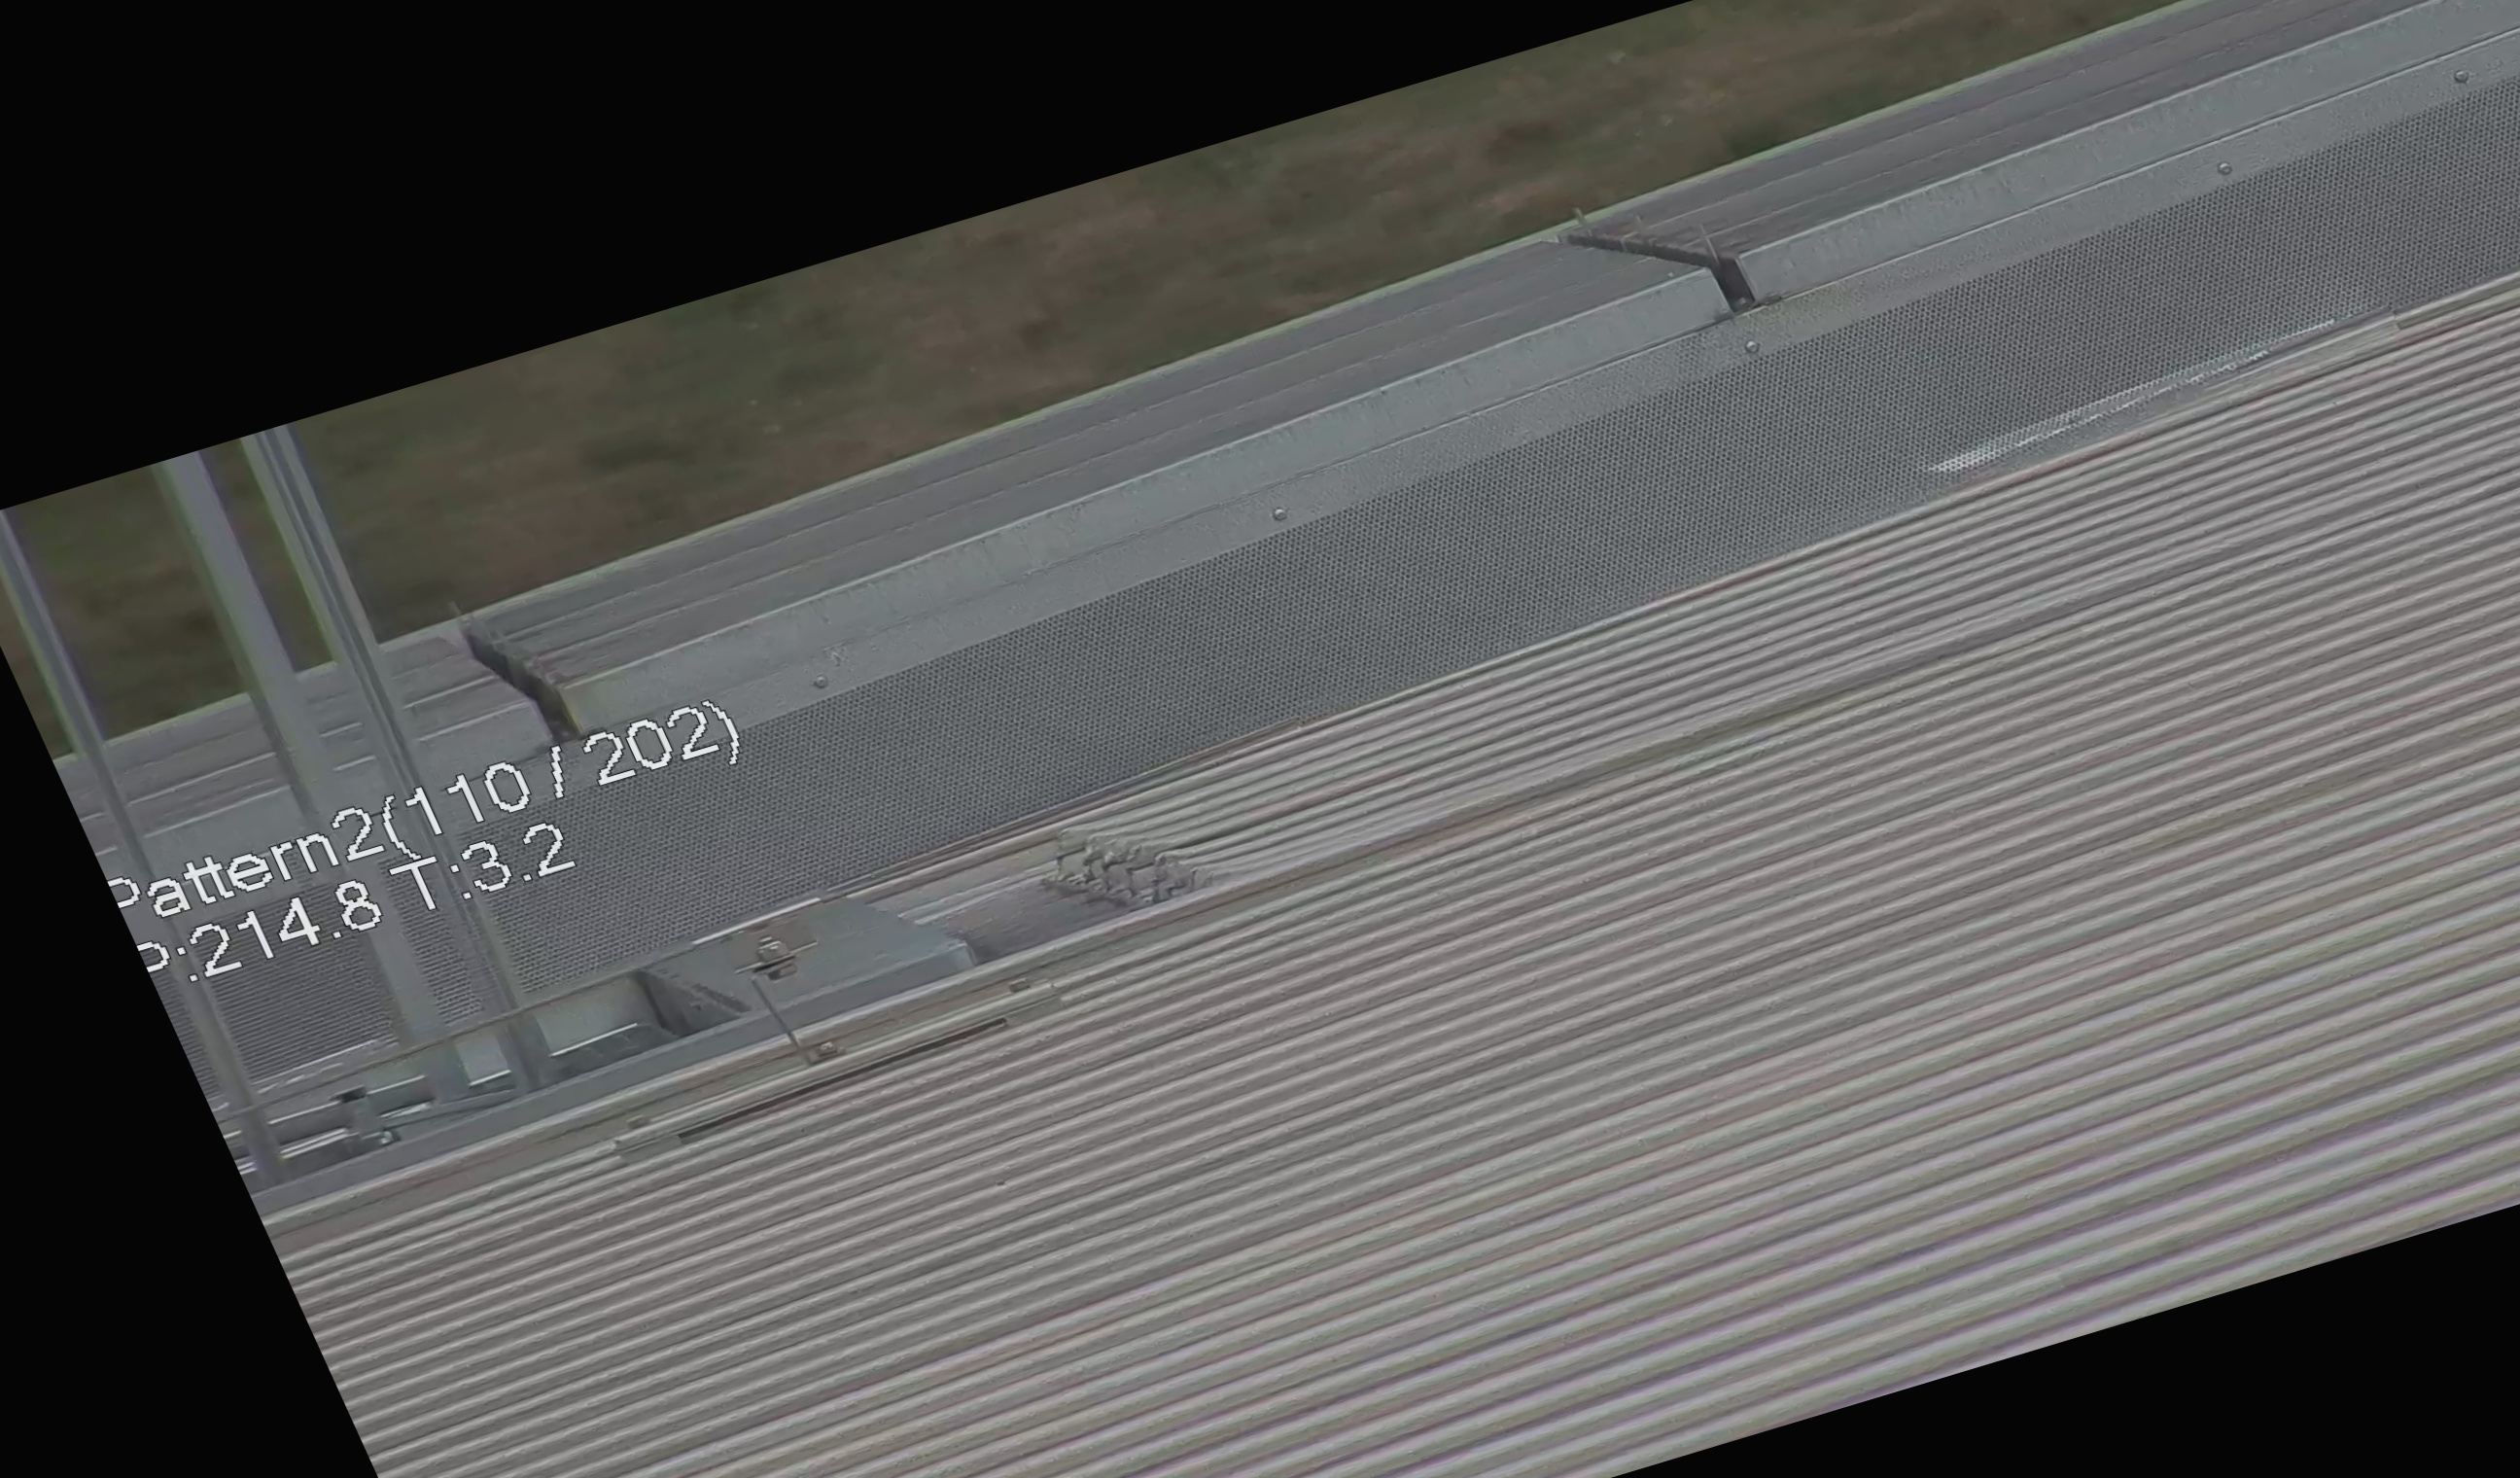Other: (401, 596, 603, 801)
